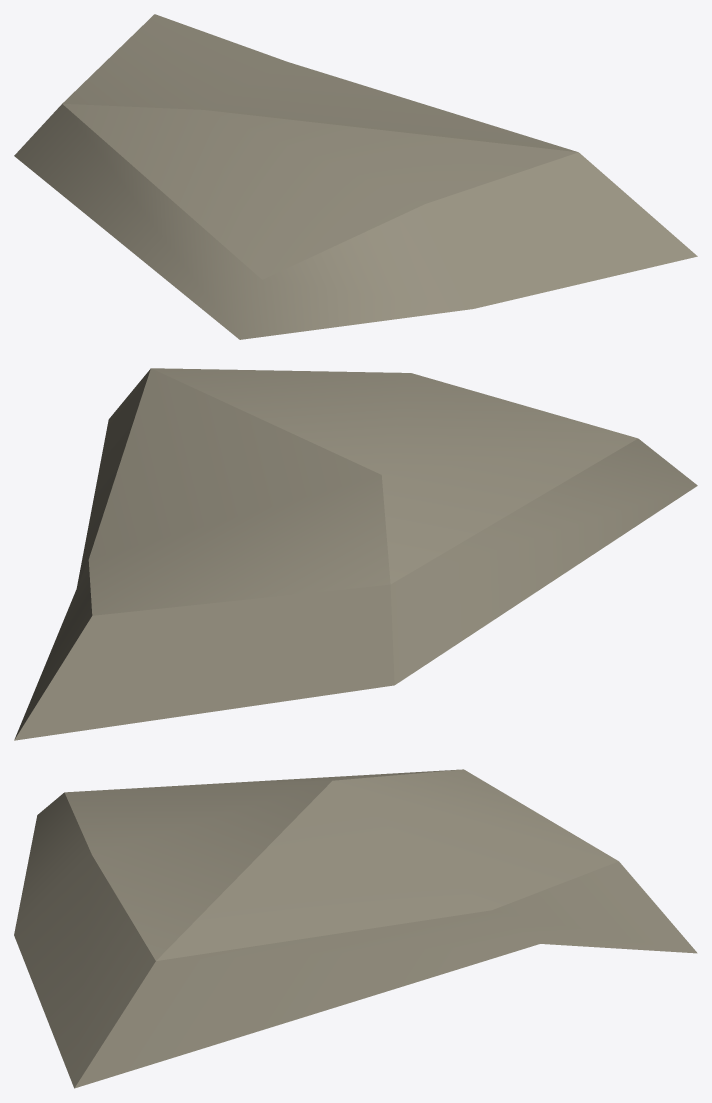
File: Stones_1i.fbx
3 views of the same model, one above another, from view 1: azimuth 30°, elevation 25°; view 2: azimuth 150°, elevation 25°; view 3: azimuth 270°, elevation 25° (orthographic). The views are drawn at different scales.
Parts seen in each view (by area): view 1: Stones_1i; view 2: Stones_1i; view 3: Stones_1i.
Part boxes in pixels (x1,y1,x2,y2): Stones_1i: (14, 14, 697, 339); Stones_1i: (14, 368, 697, 740); Stones_1i: (14, 769, 697, 1088).
Bounding box in the file's own units: 36.73 × 10.17 × 46.64.
